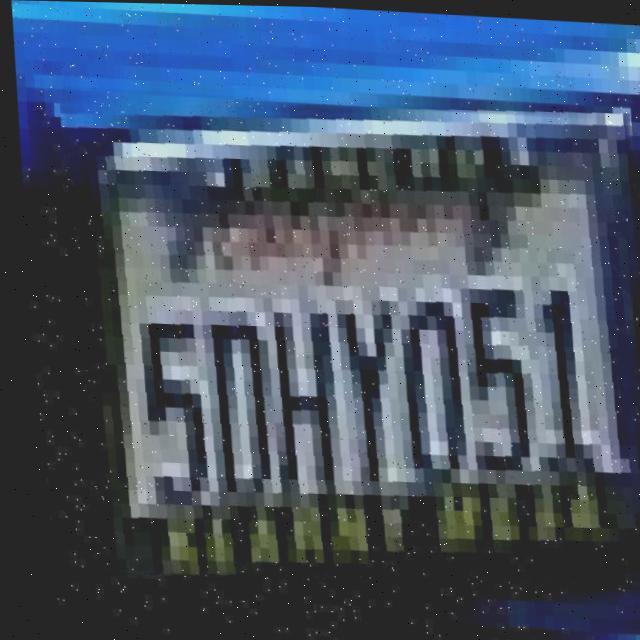LicensePlate: (43, 85, 640, 599)
